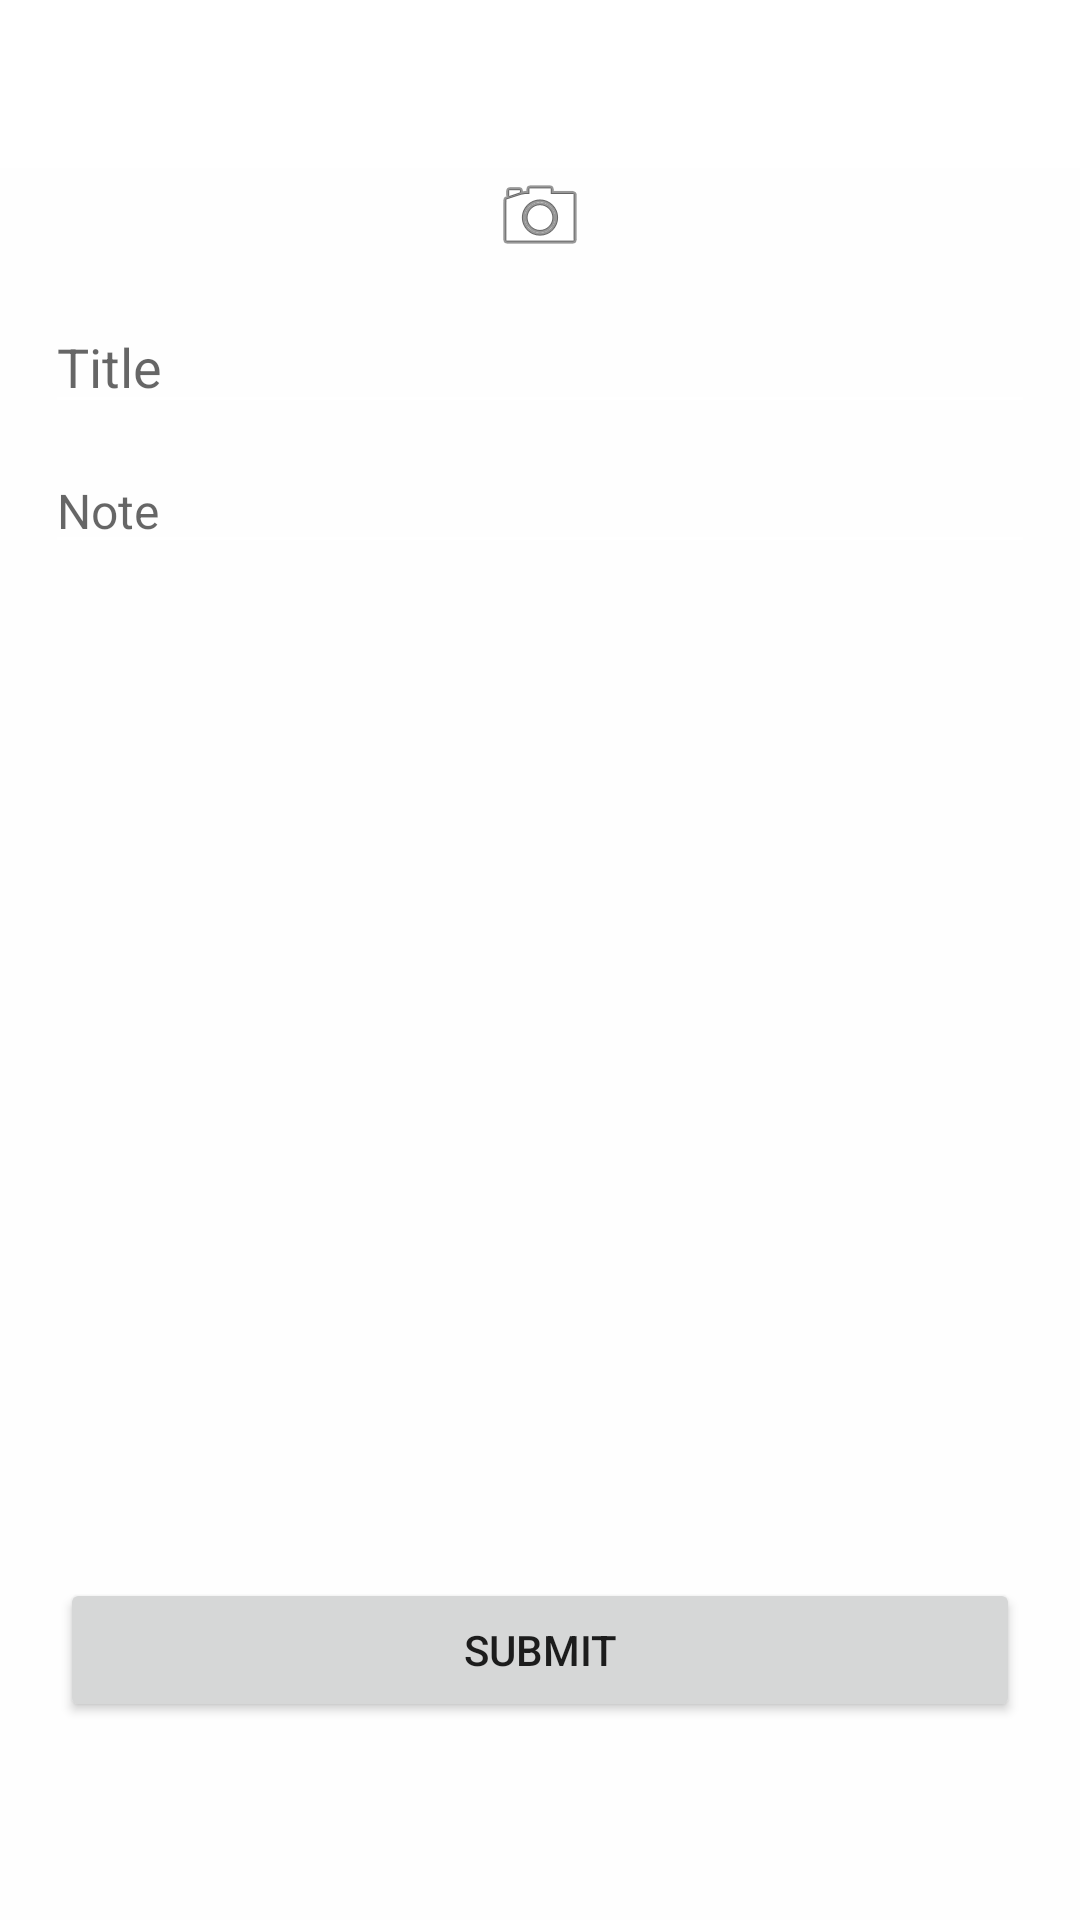

Point at icon controls on the screen. Image size 1080px×1920px, points as point (x, y).
camera: point (540, 214)
